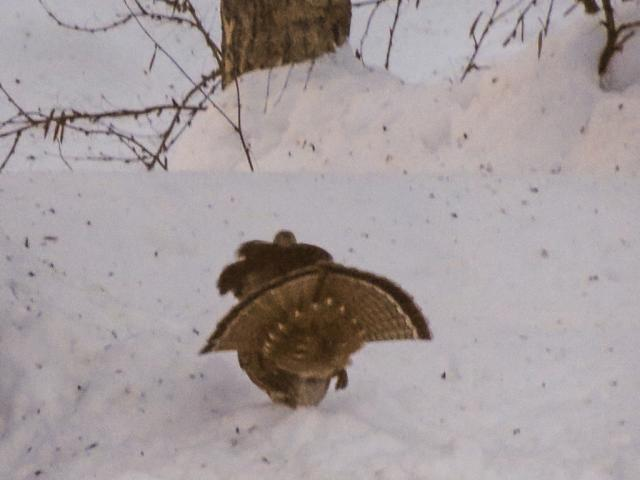Bird: (194, 226, 436, 409)
